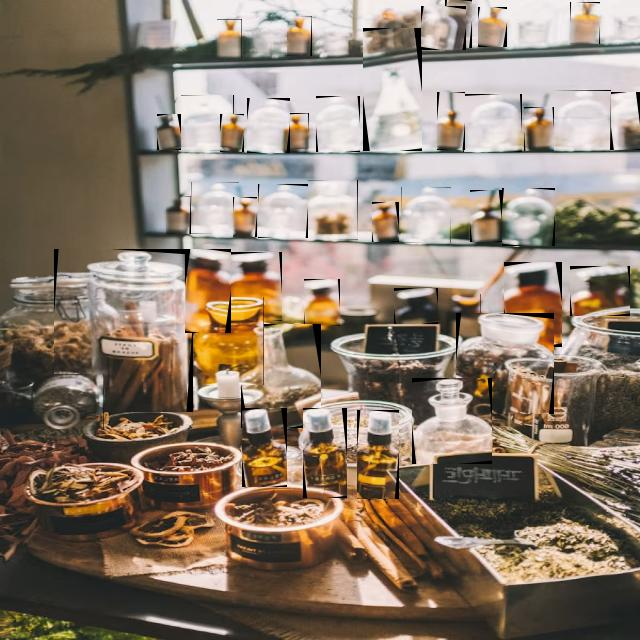Bottle: (84, 249, 192, 412), (455, 313, 552, 413), (241, 325, 320, 428), (411, 379, 490, 464), (193, 298, 262, 385), (503, 263, 561, 347), (362, 68, 421, 150), (33, 375, 102, 430), (302, 409, 345, 497), (184, 249, 229, 332), (357, 410, 397, 499), (229, 252, 280, 321), (552, 90, 610, 150), (242, 408, 285, 487), (464, 94, 520, 152), (569, 266, 629, 315), (502, 189, 553, 246), (307, 181, 356, 239), (181, 96, 232, 151), (401, 188, 450, 243), (258, 185, 307, 237), (315, 96, 359, 152), (190, 183, 237, 234), (246, 99, 289, 152), (445, 295, 480, 342), (304, 279, 339, 326), (611, 92, 639, 150), (393, 288, 437, 324), (437, 92, 464, 150), (470, 190, 500, 242), (421, 6, 456, 50), (444, 0, 471, 47), (569, 2, 599, 44), (523, 108, 552, 150), (477, 8, 505, 47), (438, 110, 464, 150), (372, 202, 397, 242), (286, 17, 311, 55), (232, 198, 256, 237), (216, 20, 241, 57), (284, 114, 308, 151), (219, 115, 243, 151), (166, 197, 189, 233), (156, 115, 180, 149)
